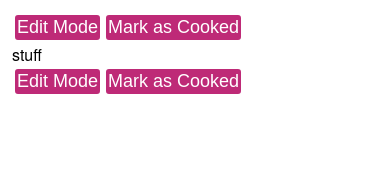
AdminButton component › When admin and "Edit Mode" button is clicked "Read Only Mode" buttons are rendered
The width and height of the screenshot is (378, 172).
What coordinates should you click on to do the following:
click the 1st button "Edit Mode"
I would click on:
 (58, 28)
Its box is [15,15,100,40].
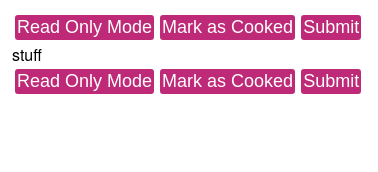
Check: the number of buttons "Read Only Mode" is 2, box [15,15,154,40]; [15,69,154,94]
